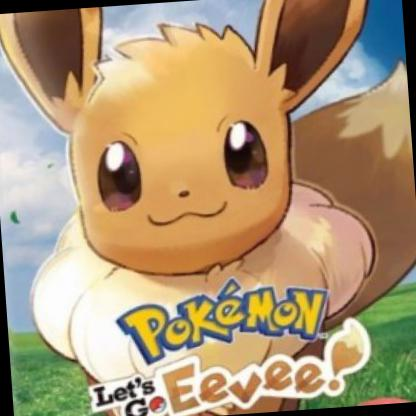Eevee: (1, 1, 416, 410)
